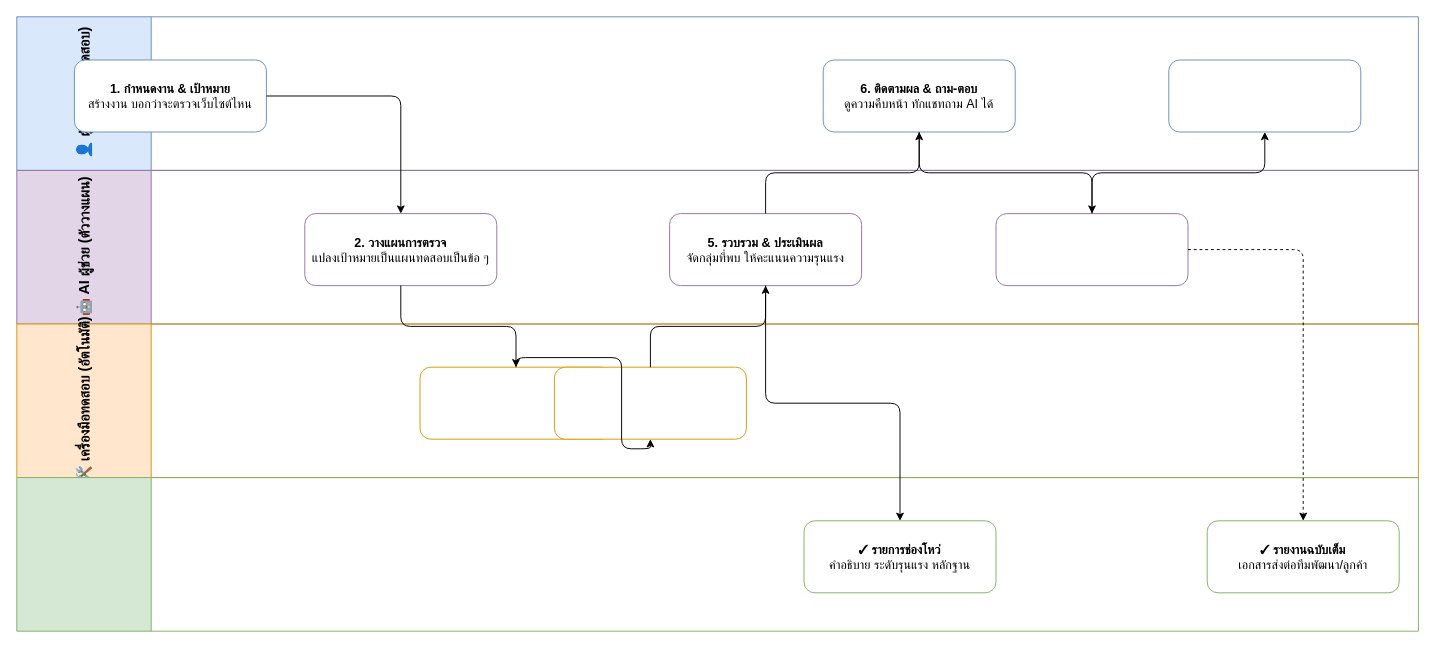
This 1435x648 diagram has some shape labels left out. The box of each missing label's shape, as (x1, y1, x2, y2) in pixels:
3. สแกนตามแผน รันขั้นตอนตรวจตามแผนจนครบ: (419, 366, 612, 439)
4. ทดลองหาช่องโหว่ เปิดเว็บอัตโนมัติ ลองวิธีโจมตี บันทึกผล: (553, 366, 746, 439)
7. เขียนรายงาน สรุปช่องโหว่ + วิธีแก้ไข: (995, 213, 1188, 286)
8. รับรายงาน เปิดรายงาน แก้ไข/ส่งต่อได้: (1168, 59, 1361, 132)
📄 ผลลัพธ์: (16, 477, 1418, 631)
